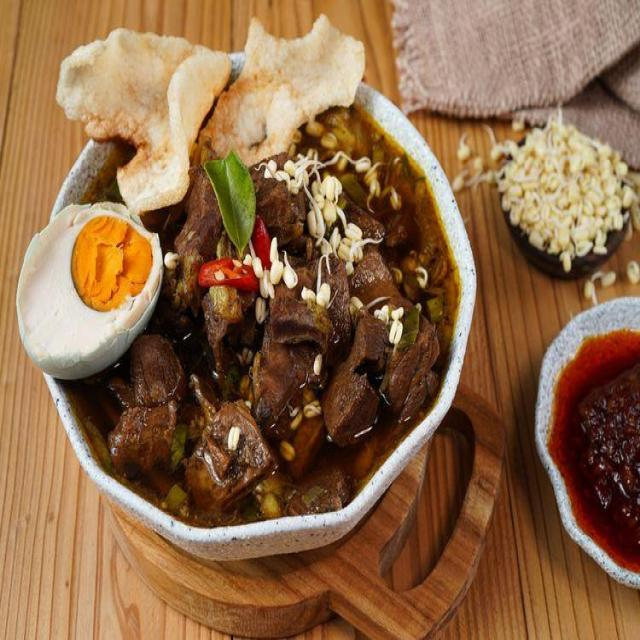Rawon: (68, 101, 422, 489)
